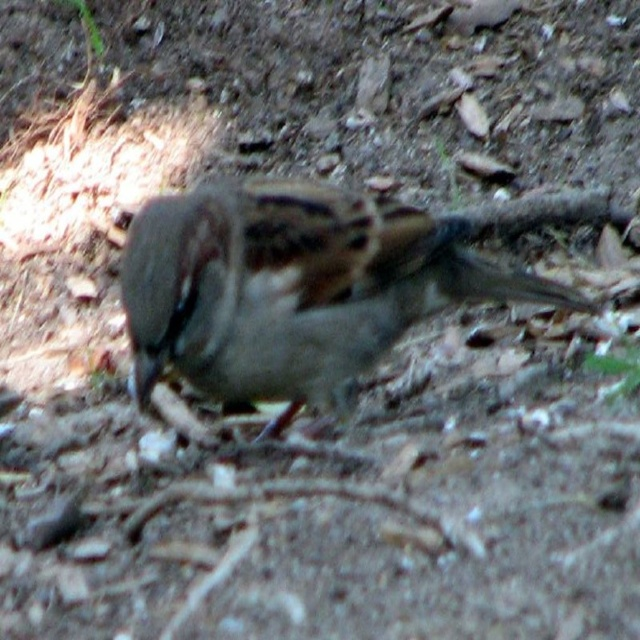Sparrow: (120, 172, 597, 439)
